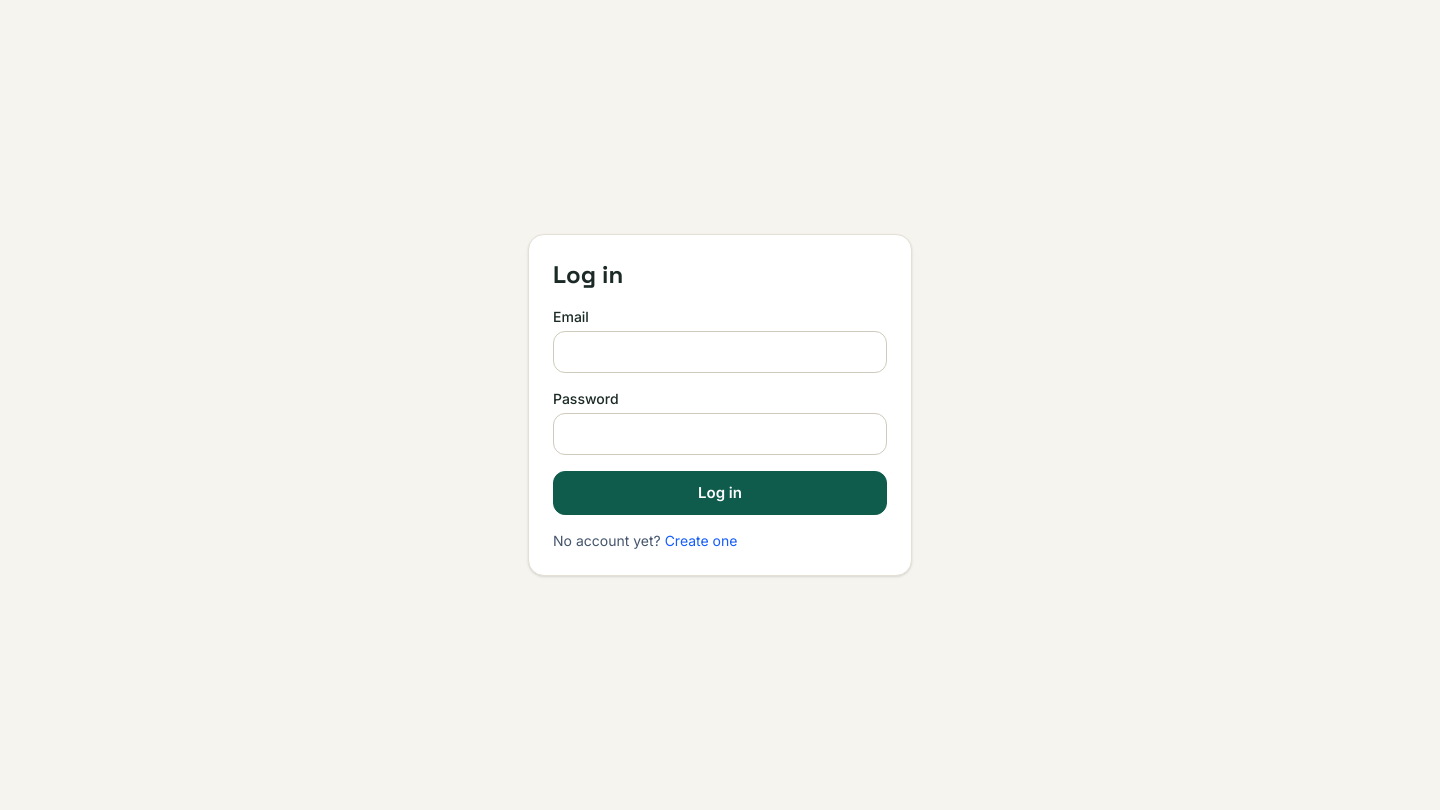
authentication screens › logs in and lands on the home page
Type "alex@example.com" into the field labelled "Email" at (720, 352), box left=553, top=331, right=887, bottom=373
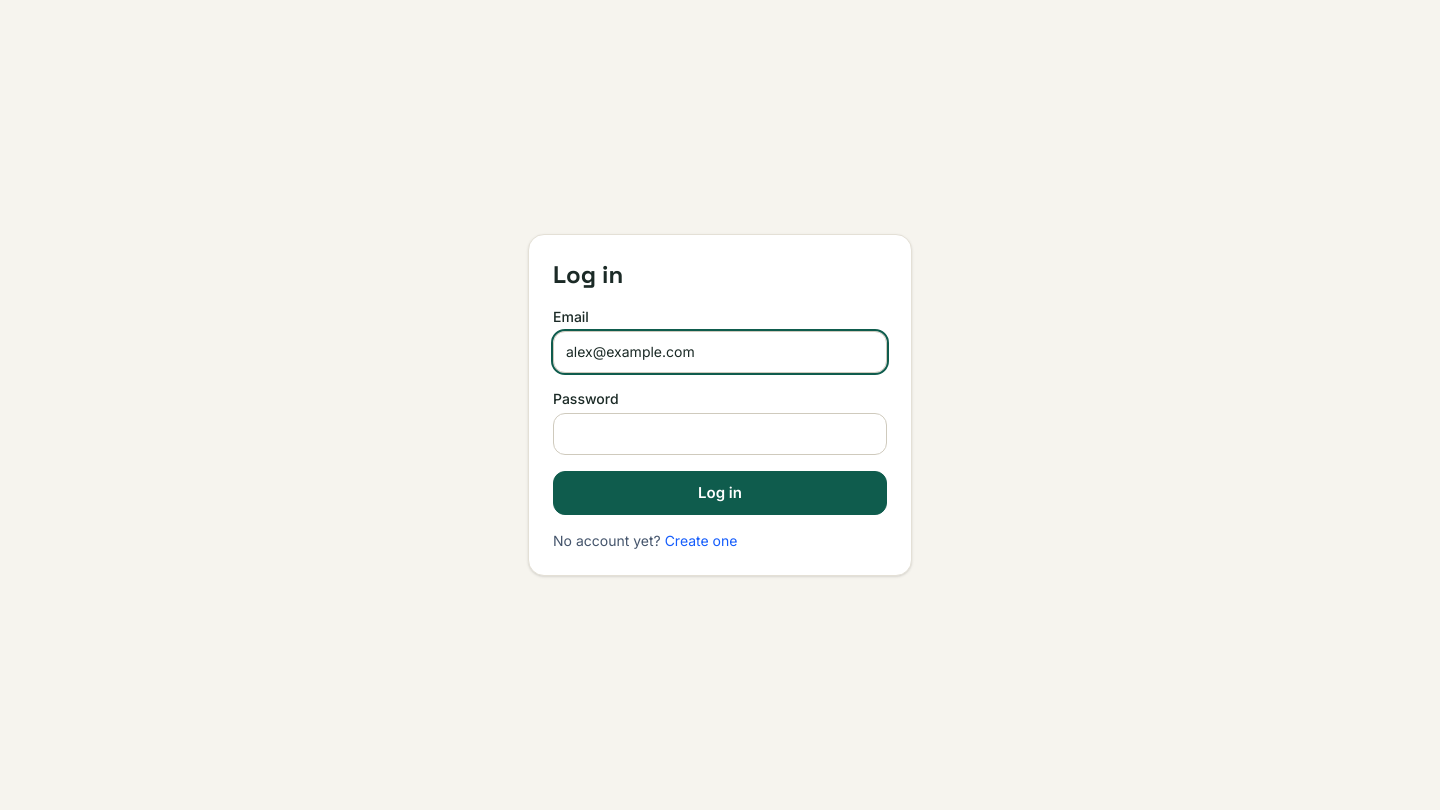
Type "S3cret-pass" into the password field labelled "Password" at (720, 434), box left=553, top=413, right=887, bottom=455
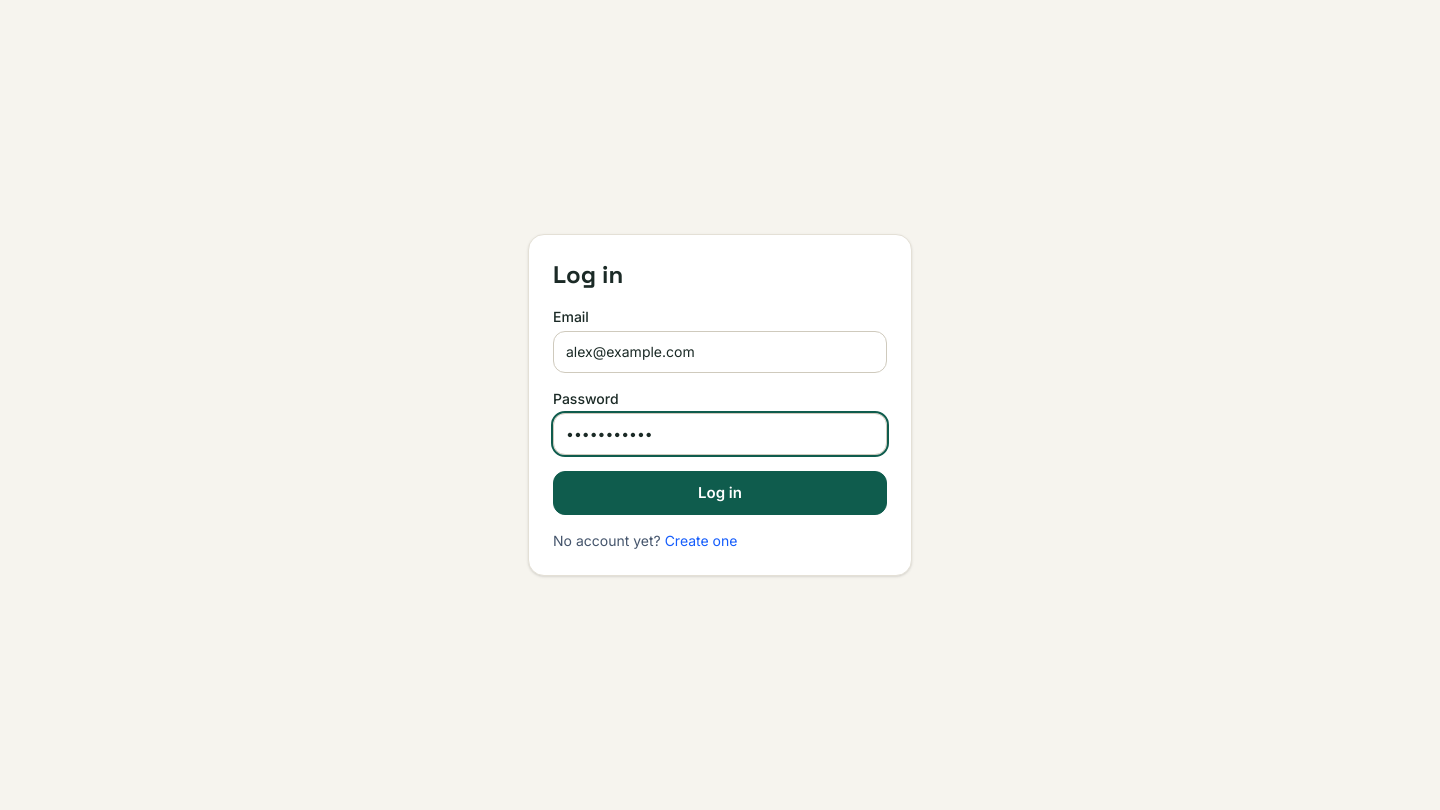
Click the button "Log in" at (720, 493), box left=553, top=471, right=887, bottom=515
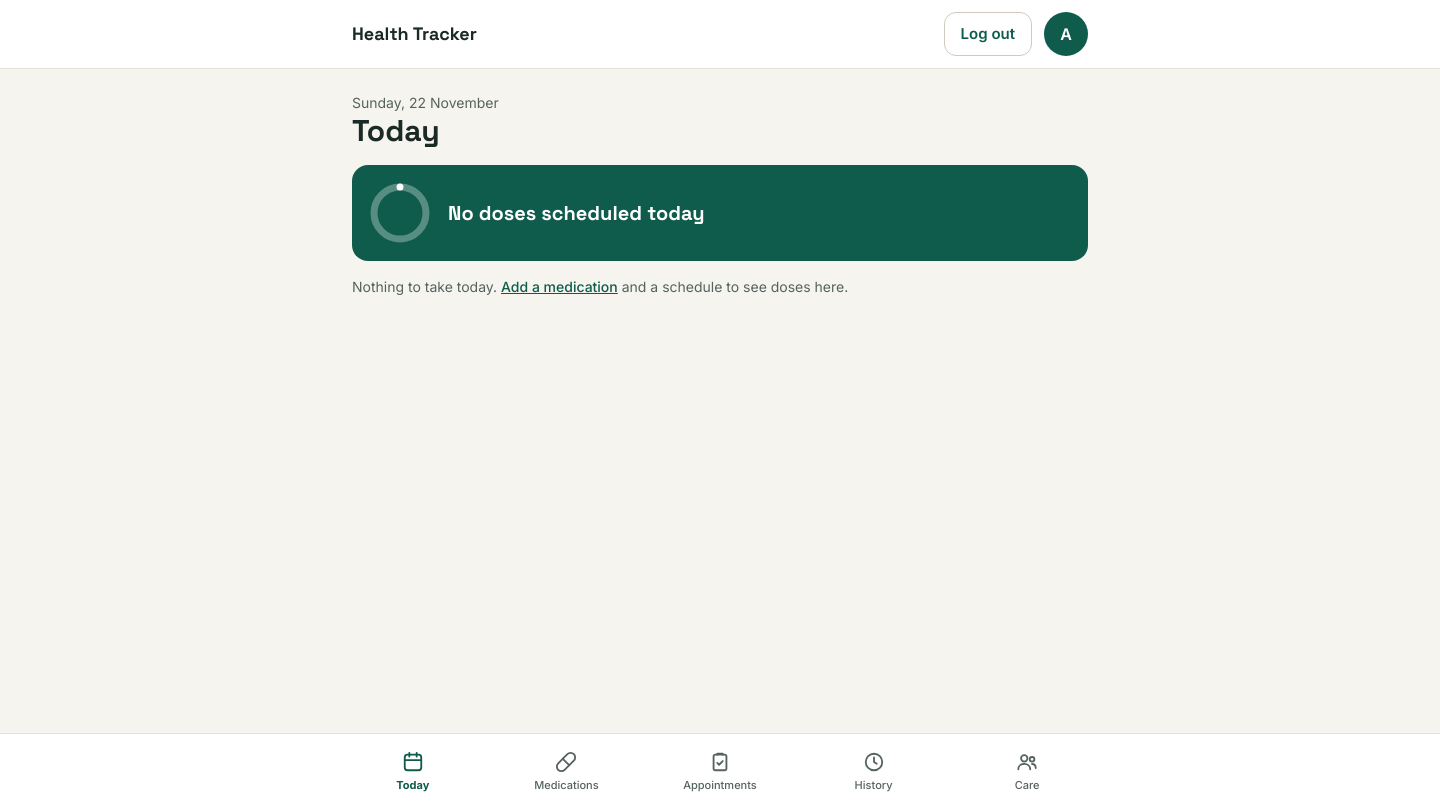
Now the heading "Today" is shown, box left=352, top=111, right=440, bottom=150
